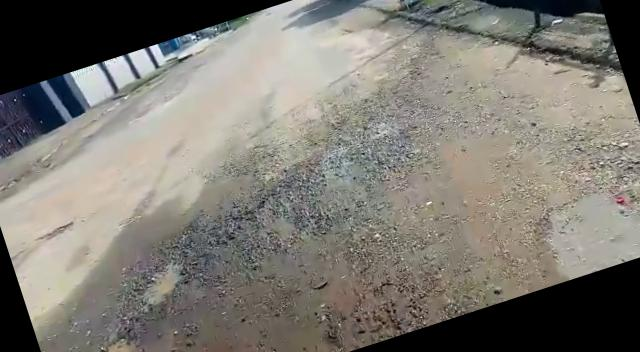pothole: (128, 254, 190, 310)
